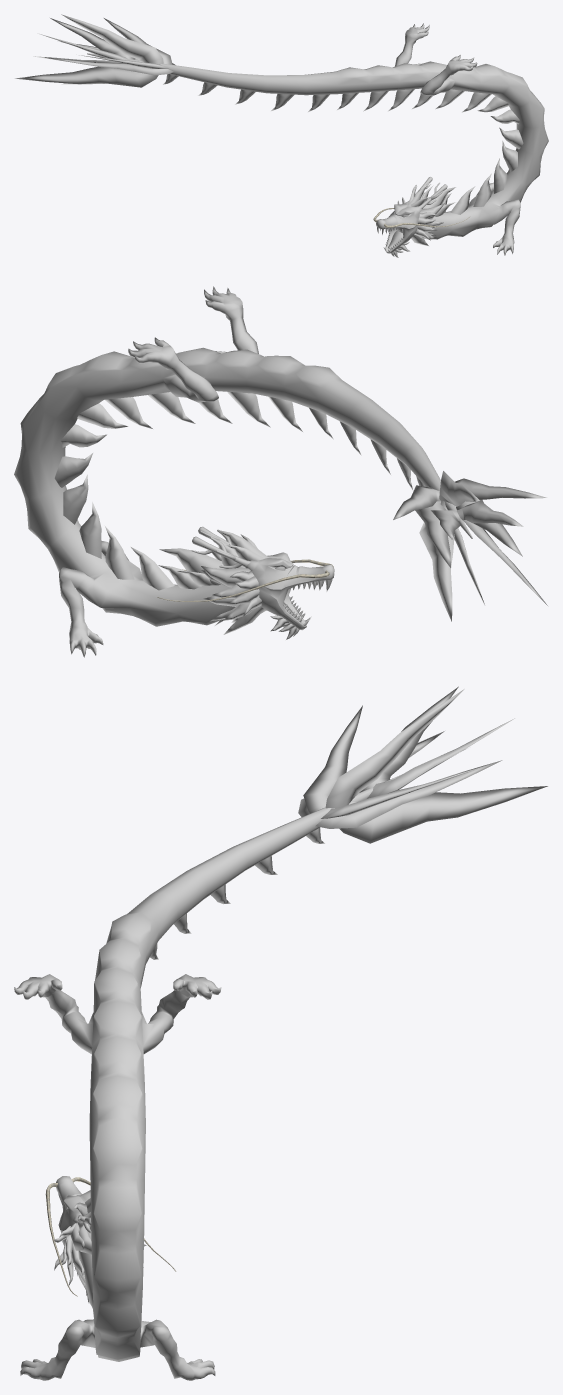
File: dungeon_02.fbx
3 views of the same model, one above another, from view 1: azimuth 30°, elevation 25°; view 2: azimuth 150°, elevation 25°; view 3: azimuth 270°, elevation 25° (orthographic). The views are drawn at different scales.
Visible parts, largest first — view 1: polySurface471, polySurface450, polySurface669, polySurface449; view 2: polySurface471, polySurface669, polySurface450, polySurface449, polySurface448; view 3: polySurface471, polySurface450, polySurface449, polySurface669.
Boxes of the visible parts, box(x1,y1,x2,y2) form: polySurface471: box(87, 23, 548, 255); polySurface450: box(15, 14, 175, 87); polySurface669: box(163, 74, 523, 216); polySurface449: box(397, 197, 444, 245); polySurface471: box(14, 286, 472, 657); polySurface669: box(54, 391, 424, 590); polySurface450: box(393, 471, 547, 621); polySurface449: box(201, 552, 266, 634); polySurface448: box(157, 559, 333, 601); polySurface471: box(14, 775, 400, 1380); polySurface450: box(298, 686, 547, 843); polySurface449: box(54, 1222, 146, 1302); polySurface669: box(74, 828, 324, 1230).
Size of the model in its own units: 238 by 120 by 144.
